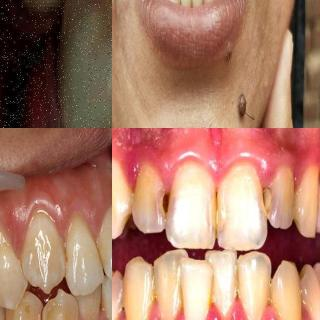Gum Swelling: (1, 0, 60, 128), (154, 142, 296, 193), (6, 197, 79, 265)
cavities: (248, 184, 278, 224), (204, 193, 230, 233), (152, 186, 178, 222), (112, 287, 130, 320)
maligned: (21, 203, 67, 294), (150, 247, 189, 320), (237, 250, 271, 320), (207, 247, 239, 320), (178, 257, 214, 320), (39, 287, 79, 320), (100, 273, 111, 320), (193, 0, 205, 13), (181, 0, 193, 12)
plaque: (145, 273, 164, 319), (204, 278, 224, 320), (172, 282, 192, 320), (260, 280, 280, 314)
